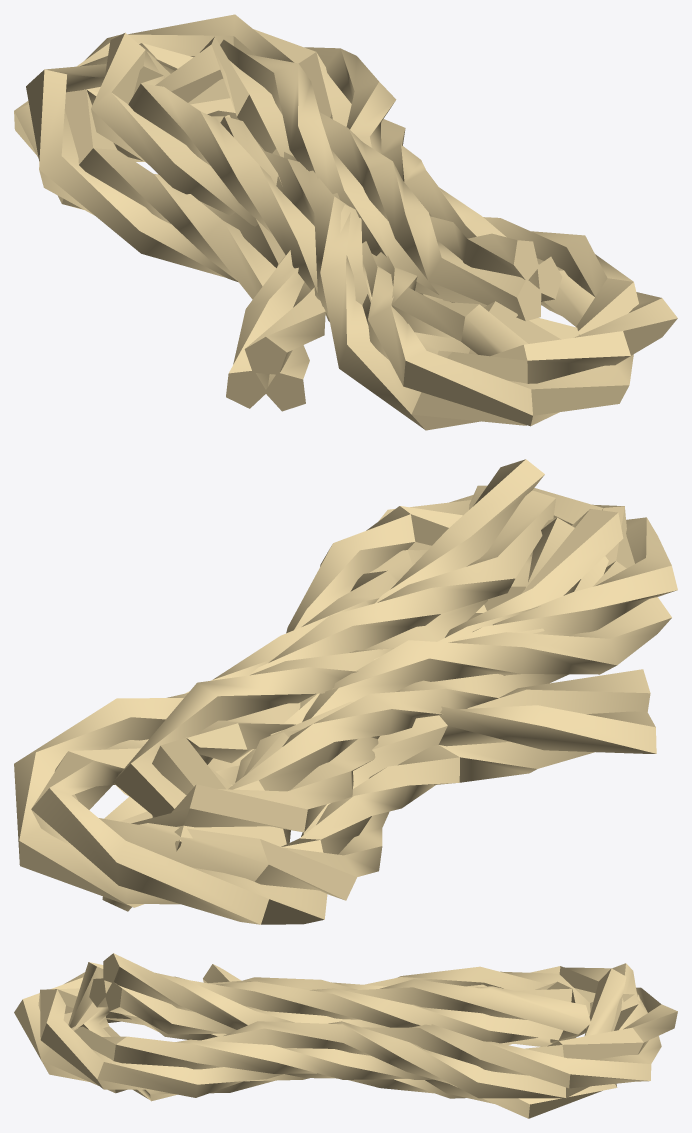
The model's file is Four_Side_Rope_Wrapped.fbx.
3 renders of one model, top to bottom at view 1: azimuth 30°, elevation 25°; view 2: azimuth 150°, elevation 25°; view 3: azimuth 270°, elevation 25°, orthographic. The views are drawn at different scales.
Visible parts, largest first — view 1: sweep10; view 2: sweep10; view 3: sweep10.
Boxes of the visible parts, x1,y1,x2,y2 form: sweep10: [14, 14, 677, 430]; sweep10: [14, 459, 677, 924]; sweep10: [14, 953, 677, 1118].
Size of the model in its own units: 8.62 by 4.3 by 18.94.
Materials: 1 (1 with a texture image).
